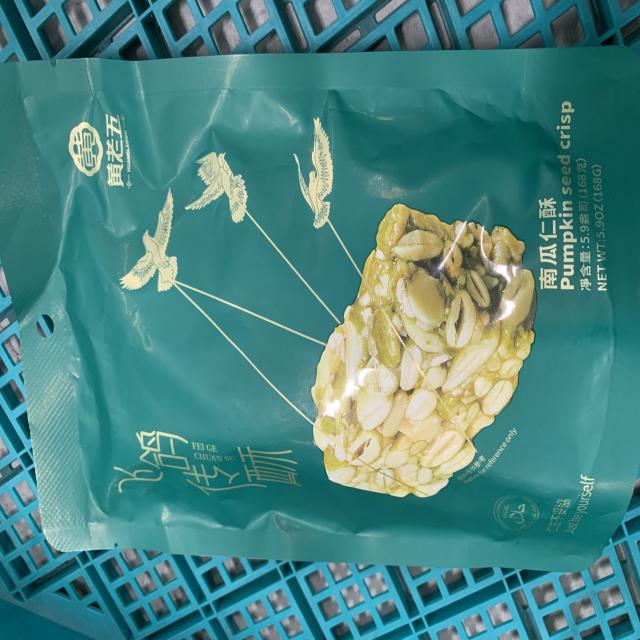object_name: (0, 56, 640, 563)
